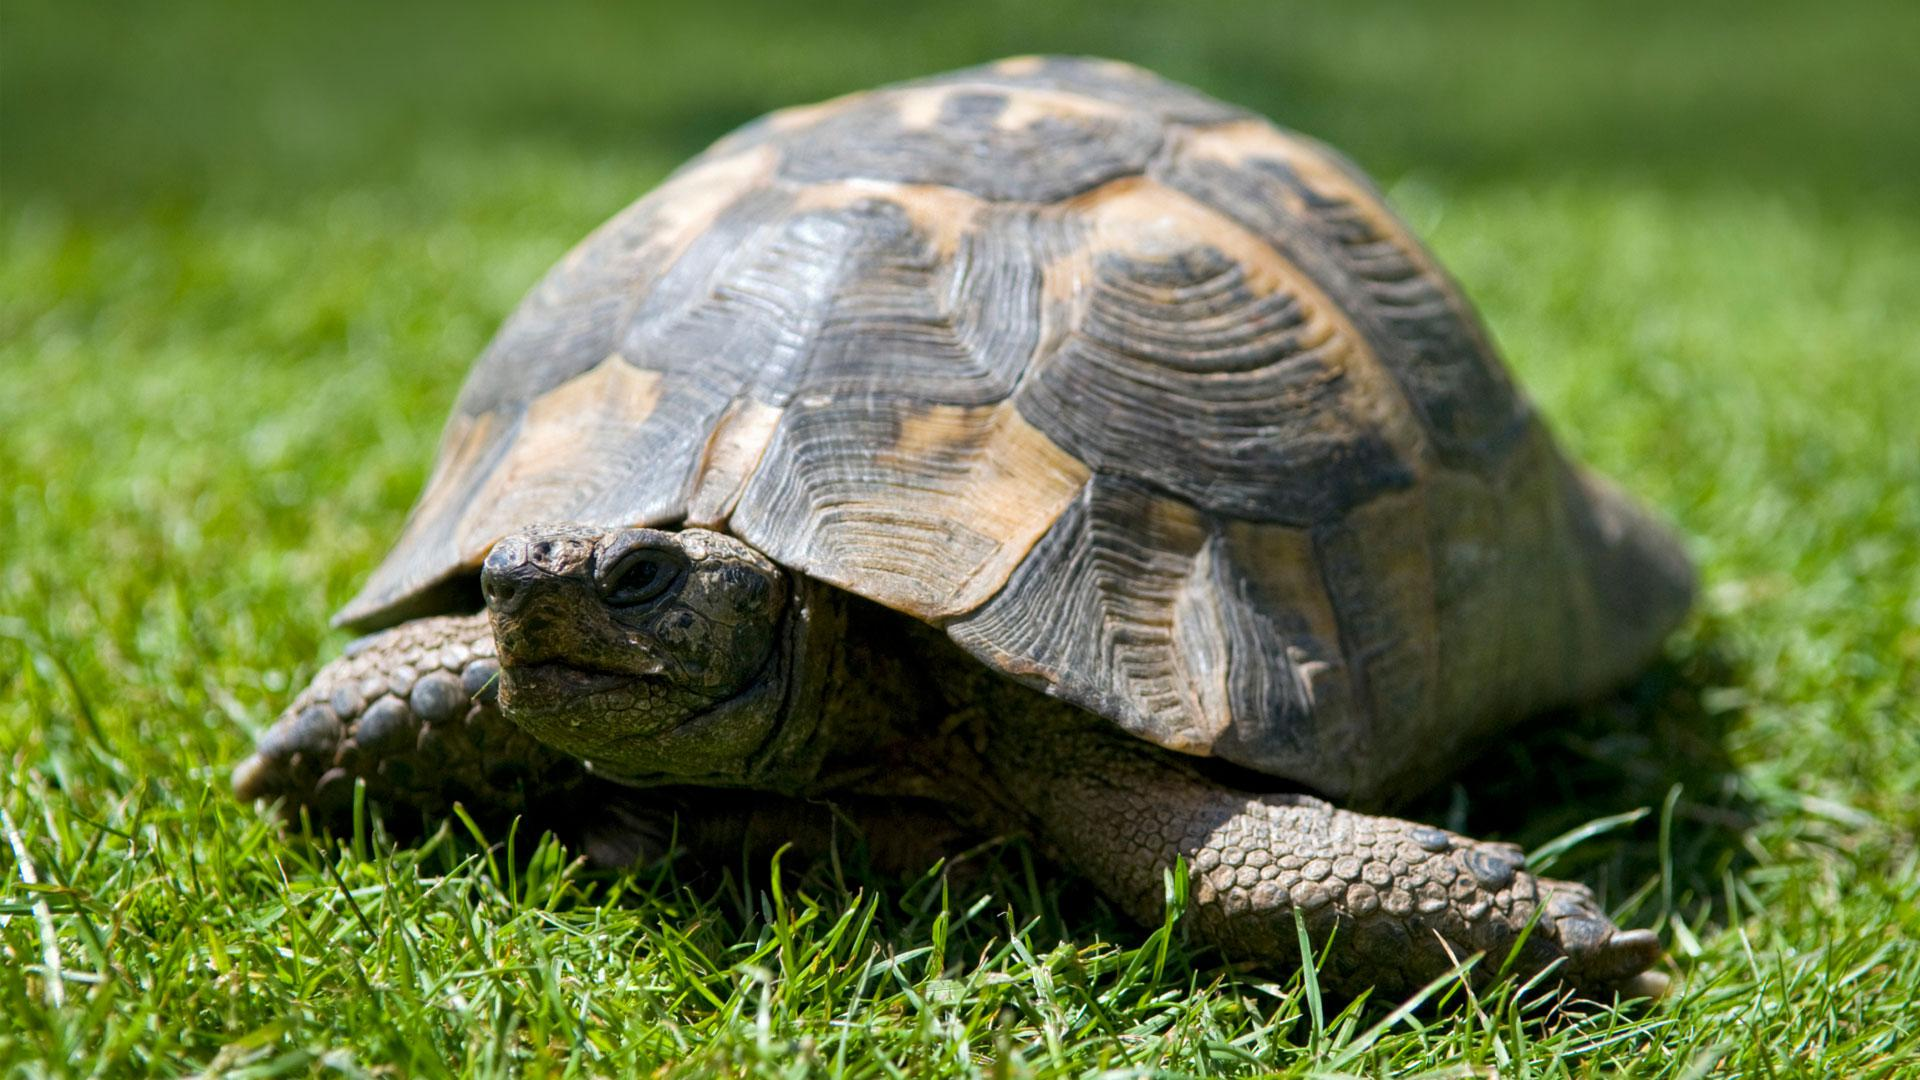eye: (575, 524, 705, 609)
mouth: (488, 638, 761, 732)
